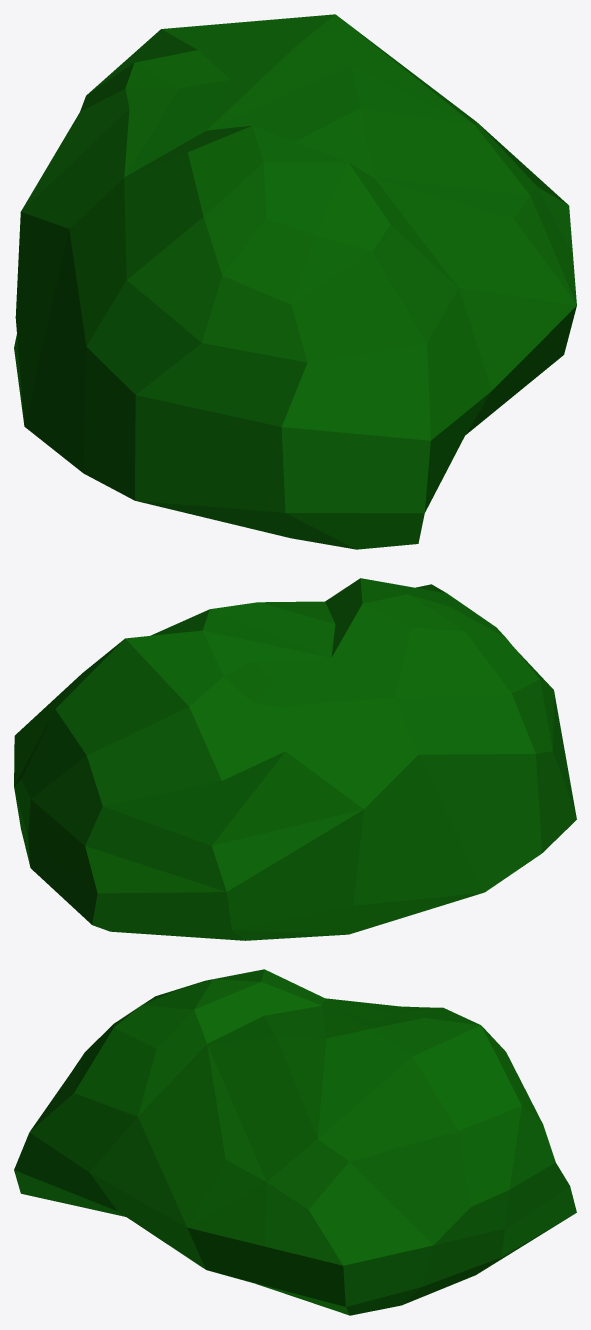
The model's file is Bush_02.fbx.
The picture shows the model from 3 angles, top to bottom: view 1: azimuth 30°, elevation 25°; view 2: azimuth 150°, elevation 25°; view 3: azimuth 270°, elevation 25°; orthographic projection. The views are drawn at different scales.
Visible parts, largest first — view 1: Bush_Model_02; view 2: Bush_Model_02; view 3: Bush_Model_02.
Boxes of the visible parts, x1,y1,x2,y2 form: Bush_Model_02: (14, 14, 576, 549); Bush_Model_02: (14, 578, 576, 940); Bush_Model_02: (14, 969, 576, 1315).
Size of the model in its own units: 8.65 by 4.55 by 10.3.
Materials: 1 (1 with a texture image).
